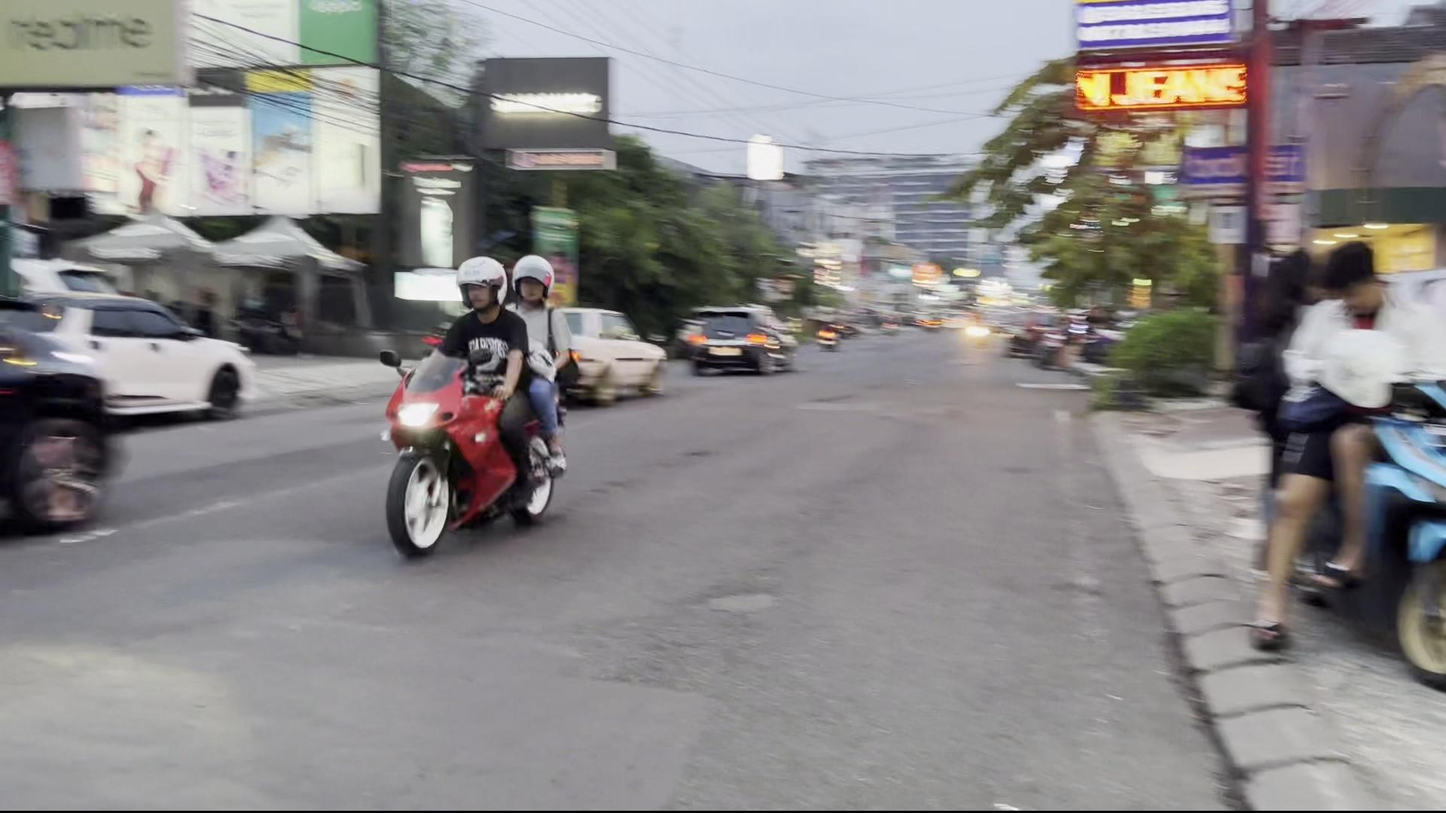helm: (452, 254, 509, 315), (509, 254, 556, 308)
riding: (375, 248, 584, 569)
